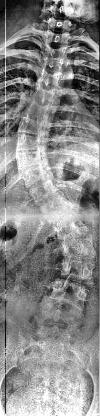Vertebrae: (48, 278, 90, 312), (57, 253, 100, 286), (15, 160, 59, 190), (49, 213, 93, 241), (59, 235, 99, 264), (24, 177, 60, 208), (11, 130, 52, 156), (12, 146, 50, 174), (20, 96, 56, 124), (41, 196, 75, 224), (13, 117, 55, 139), (30, 82, 66, 106), (32, 70, 70, 92), (38, 53, 72, 76), (40, 43, 70, 63), (44, 28, 70, 46)
